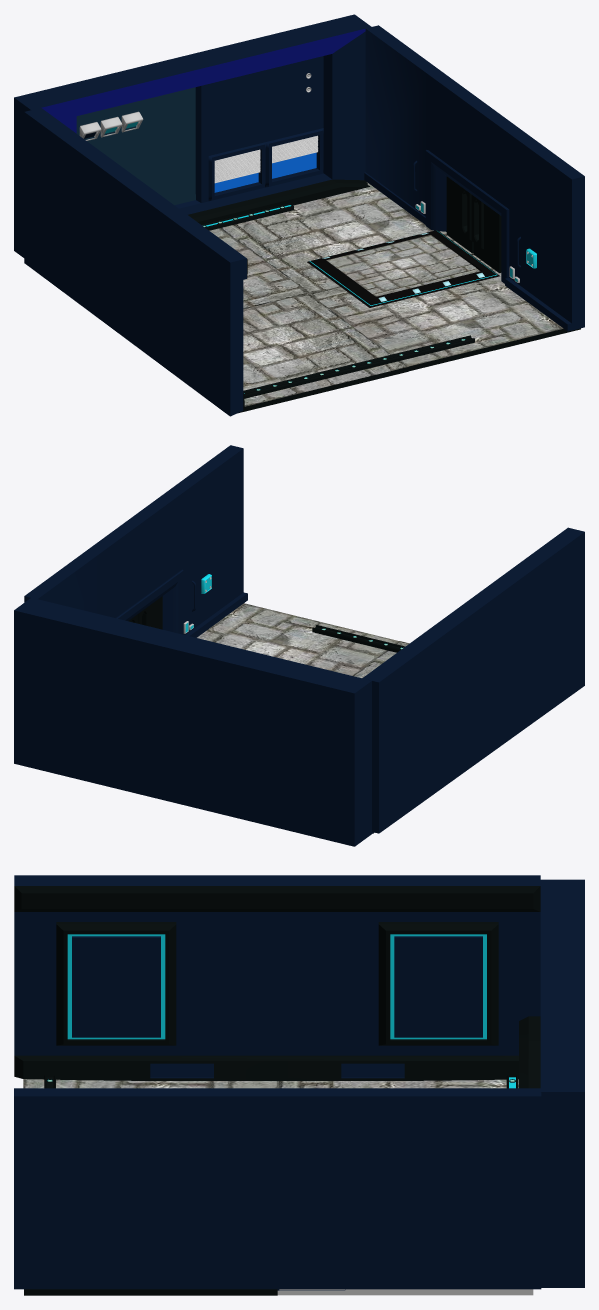
Rendered from labor.fbx.
3 renders of one model, top to bottom at view 1: azimuth 30°, elevation 25°; view 2: azimuth 150°, elevation 25°; view 3: azimuth 270°, elevation 25°, orthographic. The views are drawn at different scales.
Visible parts, largest first — view 1: Boîte004, Boîte003, Boîte002, Boîte032, Boîte031, Boîte033, Boîte007, Boîte030, Boîte005, Boîte008; view 2: Boîte004, Boîte003, Boîte002, Boîte032, Boîte005; view 3: Boîte003, Boîte002, Boîte004, Boîte031, Boîte030, Boîte033, Boîte032.
Boxes of the visible parts, x1,y1,x2,y2 form: Boîte004: (14,14,371,257); Boîte003: (24,108,247,416); Boîte002: (364,25,584,331); Boîte032: (310,254,580,371); Boîte031: (237,293,408,413); Boîte033: (220,182,473,293); Boîte007: (307,230,499,307); Boîte030: (209,228,308,309); Boîte005: (243,335,474,398); Boîte008: (201,203,293,230); Boîte004: (14,597,373,846); Boîte003: (362,527,584,833); Boîte002: (24,445,247,637); Boîte032: (197,603,399,675); Boîte005: (312,625,405,652); Boîte003: (14,875,540,1080); Boîte002: (14,1088,541,1290); Boîte004: (519,879,584,1287); Boîte031: (23,1079,278,1088); Boîte030: (279,1079,518,1088); Boîte033: (277,1289,533,1295); Boîte032: (24,1289,277,1295).
Size of the model in its own units: 269 by 113 by 293.
